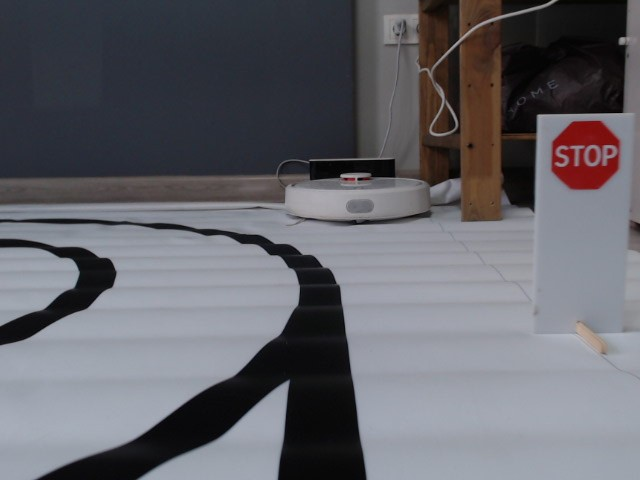Stop: (549, 118, 622, 191)
